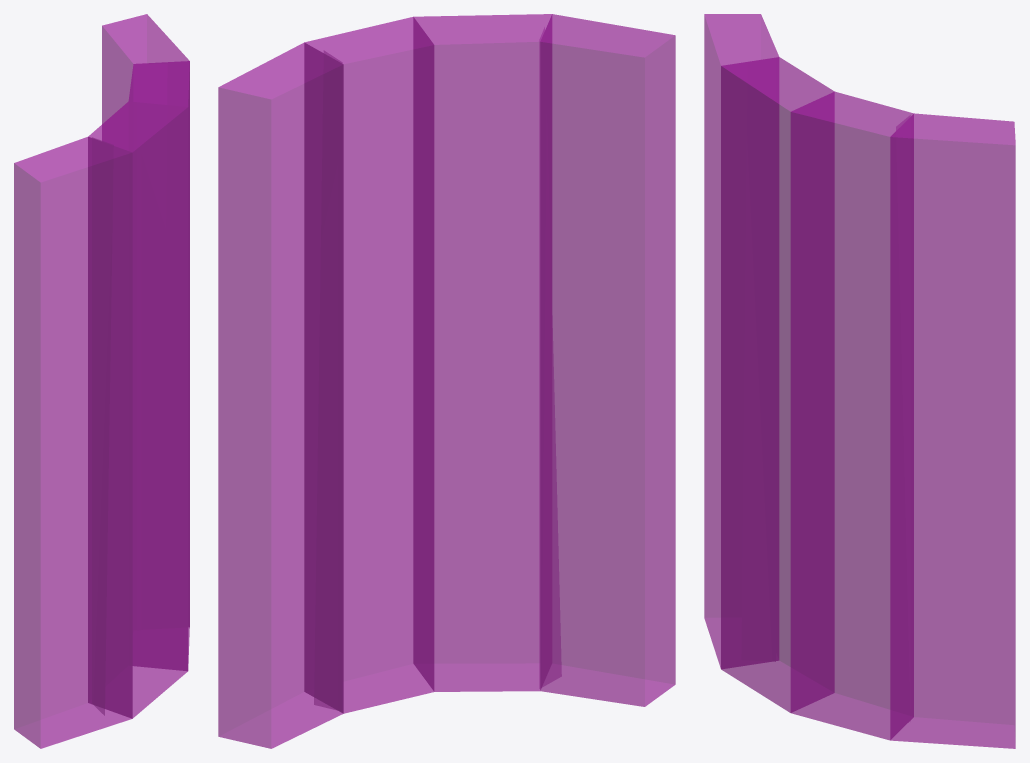
Rendered from SM_Bld_Wall_Window_Fancy_Curved_S_01_Collision.fbx.
The picture shows the model from 3 angles, left to right: view 1: azimuth 30°, elevation 25°; view 2: azimuth 150°, elevation 25°; view 3: azimuth 270°, elevation 25°; orthographic projection. The views are drawn at different scales.
Visible parts, largest first — view 1: SM_Bld_Wall_Window_Fancy_Curved_S_01_Collision; view 2: SM_Bld_Wall_Window_Fancy_Curved_S_01_Collision; view 3: SM_Bld_Wall_Window_Fancy_Curved_S_01_Collision.
Boxes of the visible parts, x1,y1,x2,y2 form: SM_Bld_Wall_Window_Fancy_Curved_S_01_Collision: [14, 14, 189, 748]; SM_Bld_Wall_Window_Fancy_Curved_S_01_Collision: [218, 14, 675, 748]; SM_Bld_Wall_Window_Fancy_Curved_S_01_Collision: [704, 14, 1015, 748].
Size of the model in its own units: 141 by 302 by 141.
